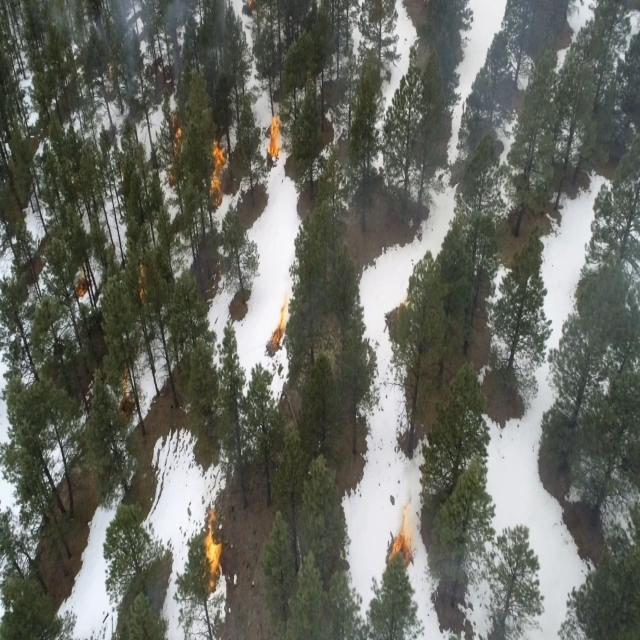Fire: (196, 500, 231, 594), (383, 492, 422, 572), (264, 294, 298, 362), (160, 110, 187, 190), (262, 110, 290, 178), (206, 138, 232, 210), (134, 253, 154, 314), (70, 270, 98, 310), (115, 371, 138, 408), (395, 291, 415, 318), (238, 0, 258, 16)
Smoke: (106, 1, 200, 102)
